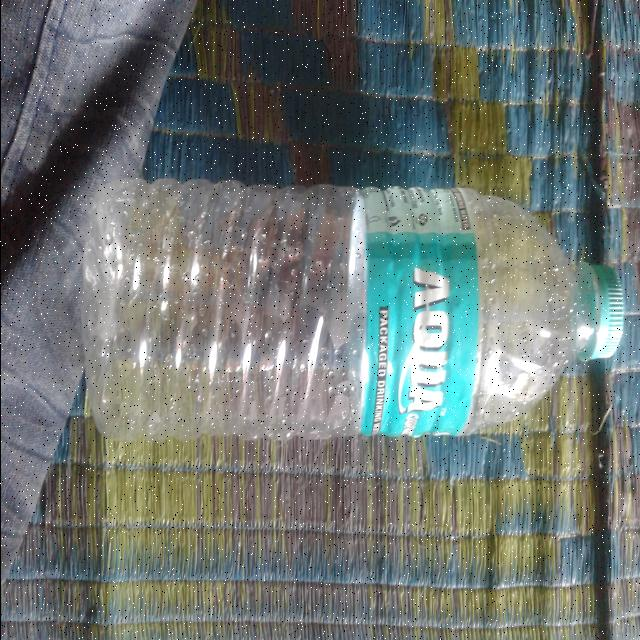plastic: (86, 180, 628, 448)
